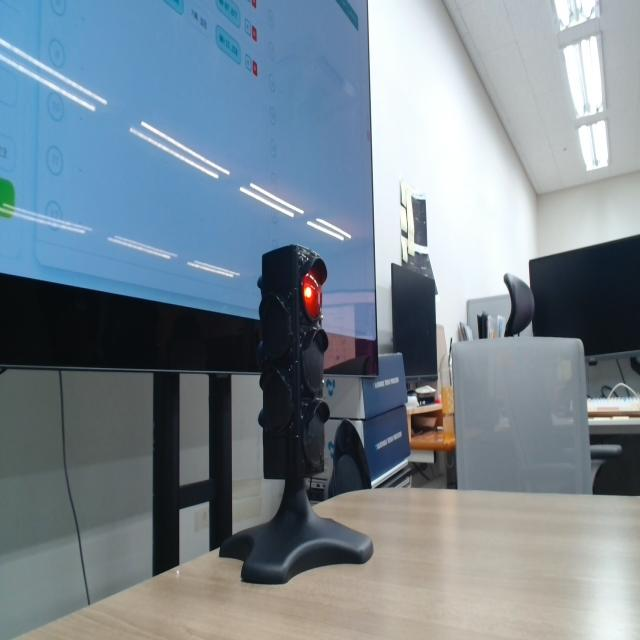red_light: (302, 273, 322, 321)
